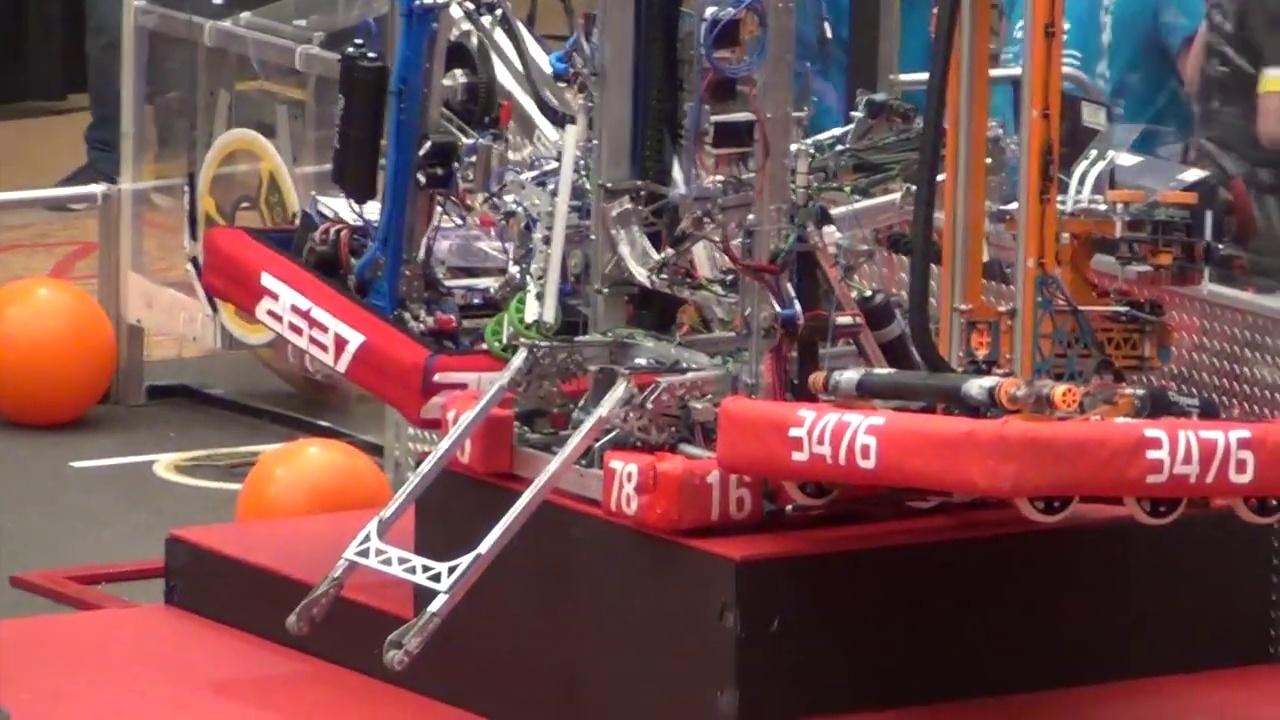robot: (717, 0, 1280, 537), (439, 0, 776, 537), (201, 0, 612, 436)
